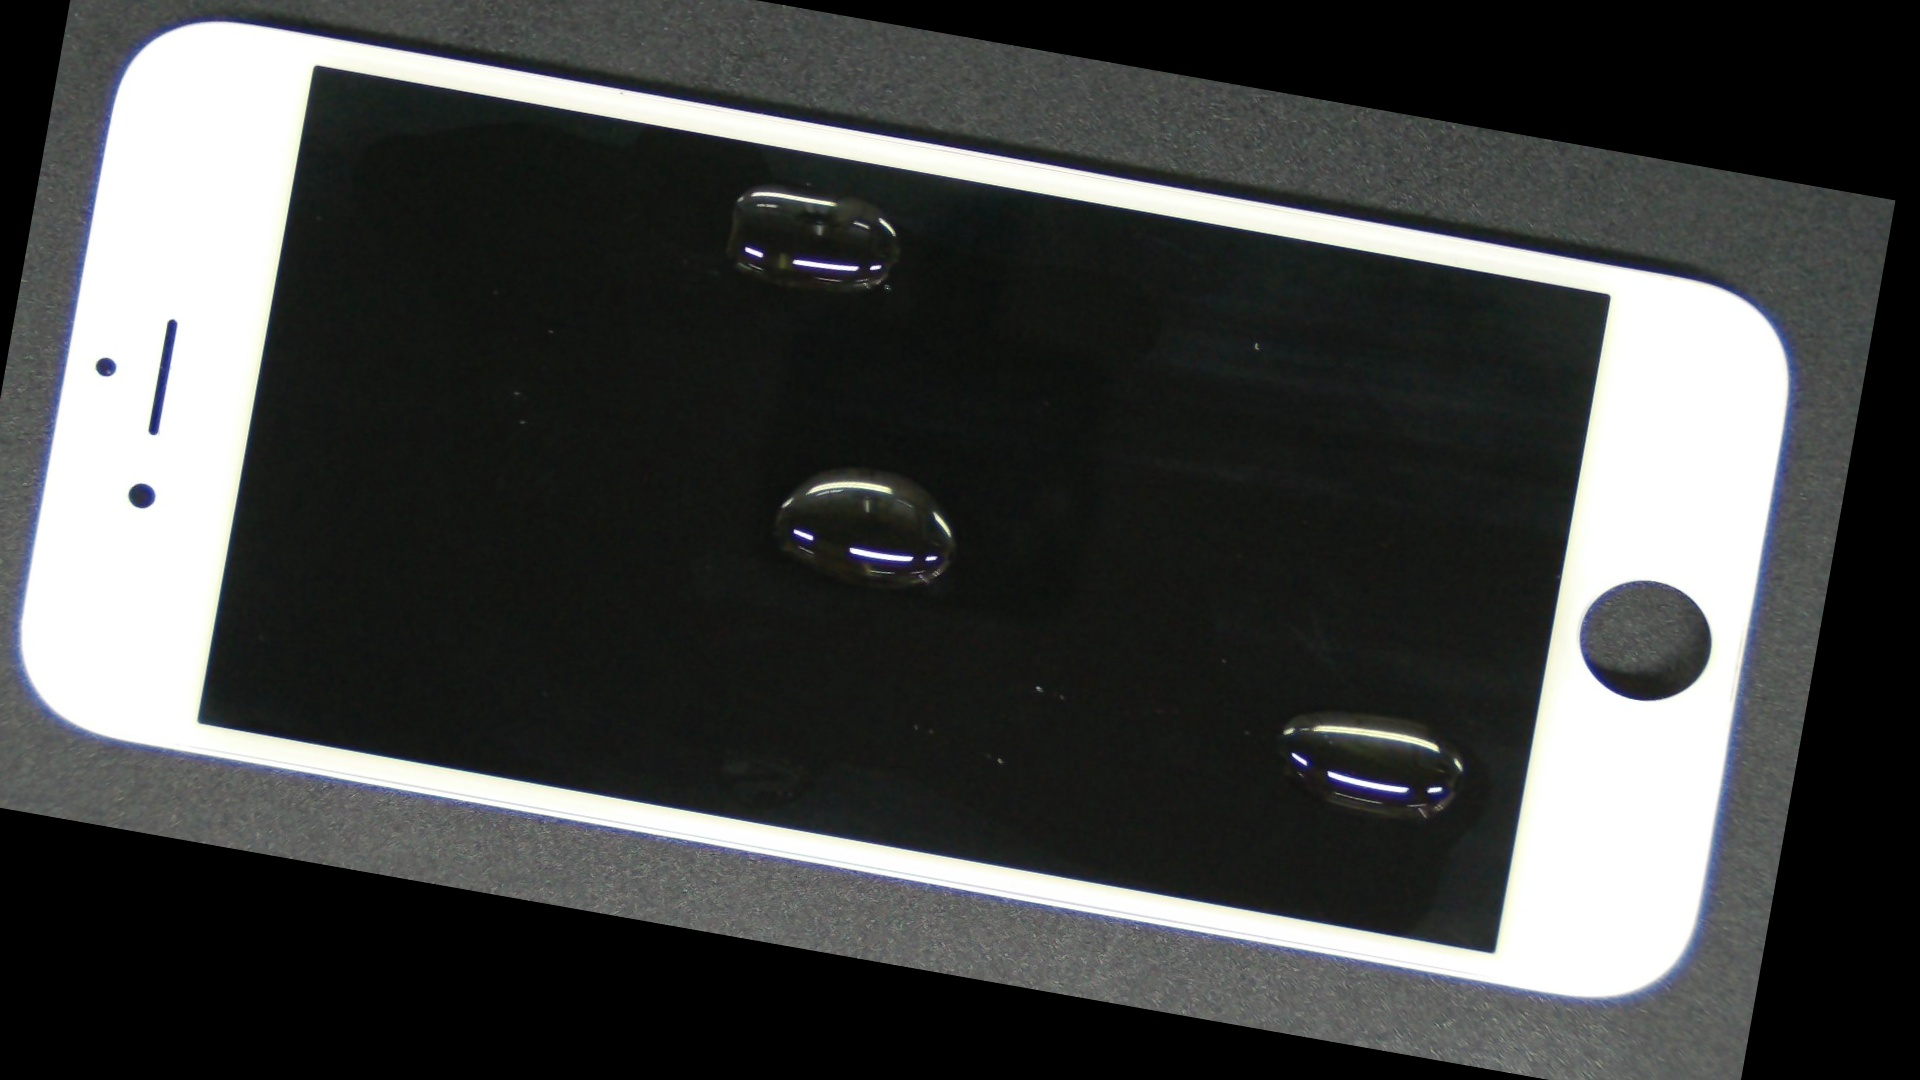oil: (644, 301, 1844, 1080), (405, 175, 1337, 760), (415, 34, 1185, 338)
